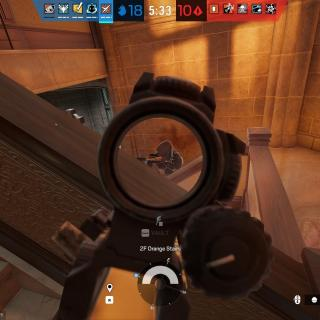Character: (142, 140, 184, 178)
Head: (156, 140, 175, 162)
